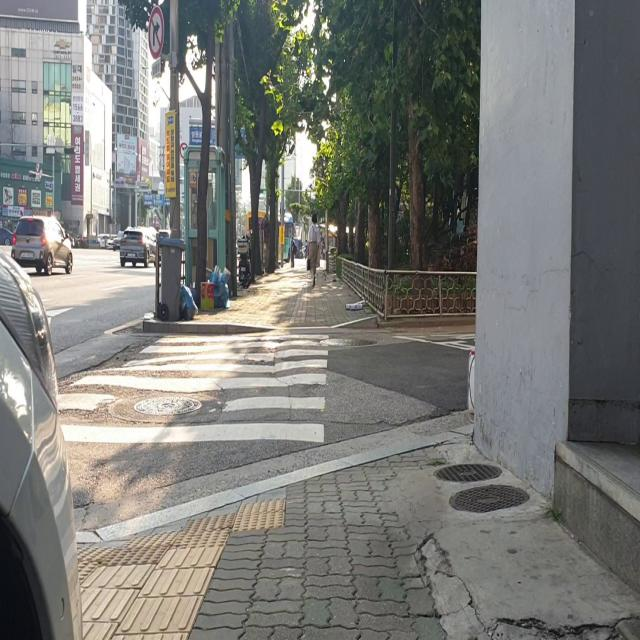횡단보도: (55, 331, 329, 445)
